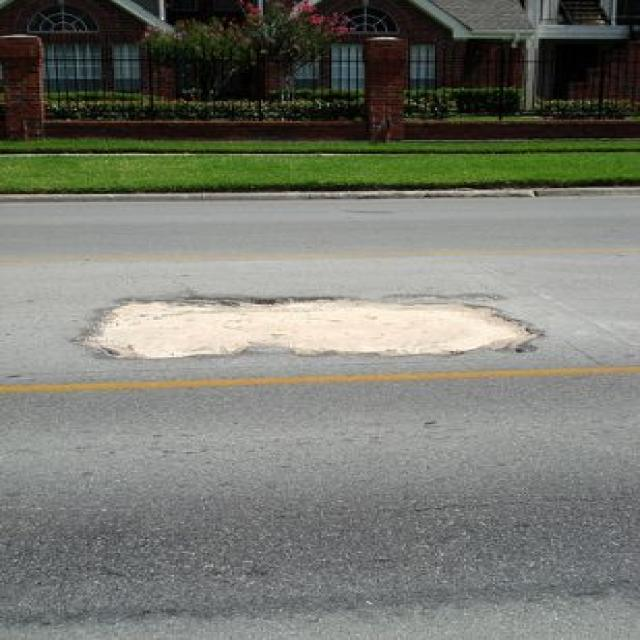Pothole: (61, 287, 542, 365)
